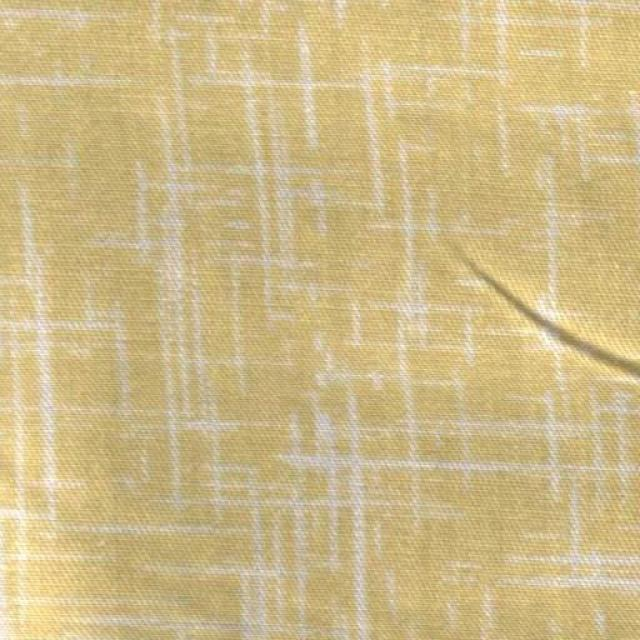broken_yarn: (445, 245, 639, 399)
